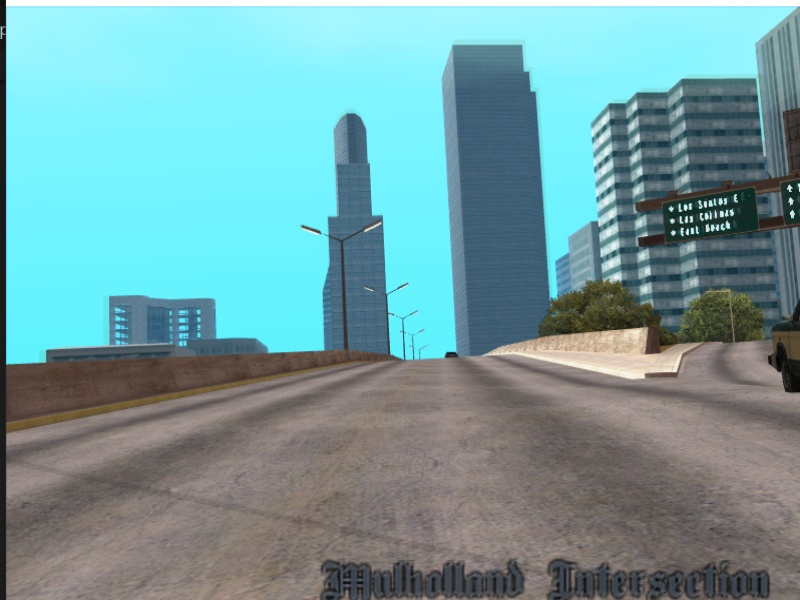pole: (337, 237, 352, 350), (383, 293, 393, 356), (400, 315, 407, 359)
